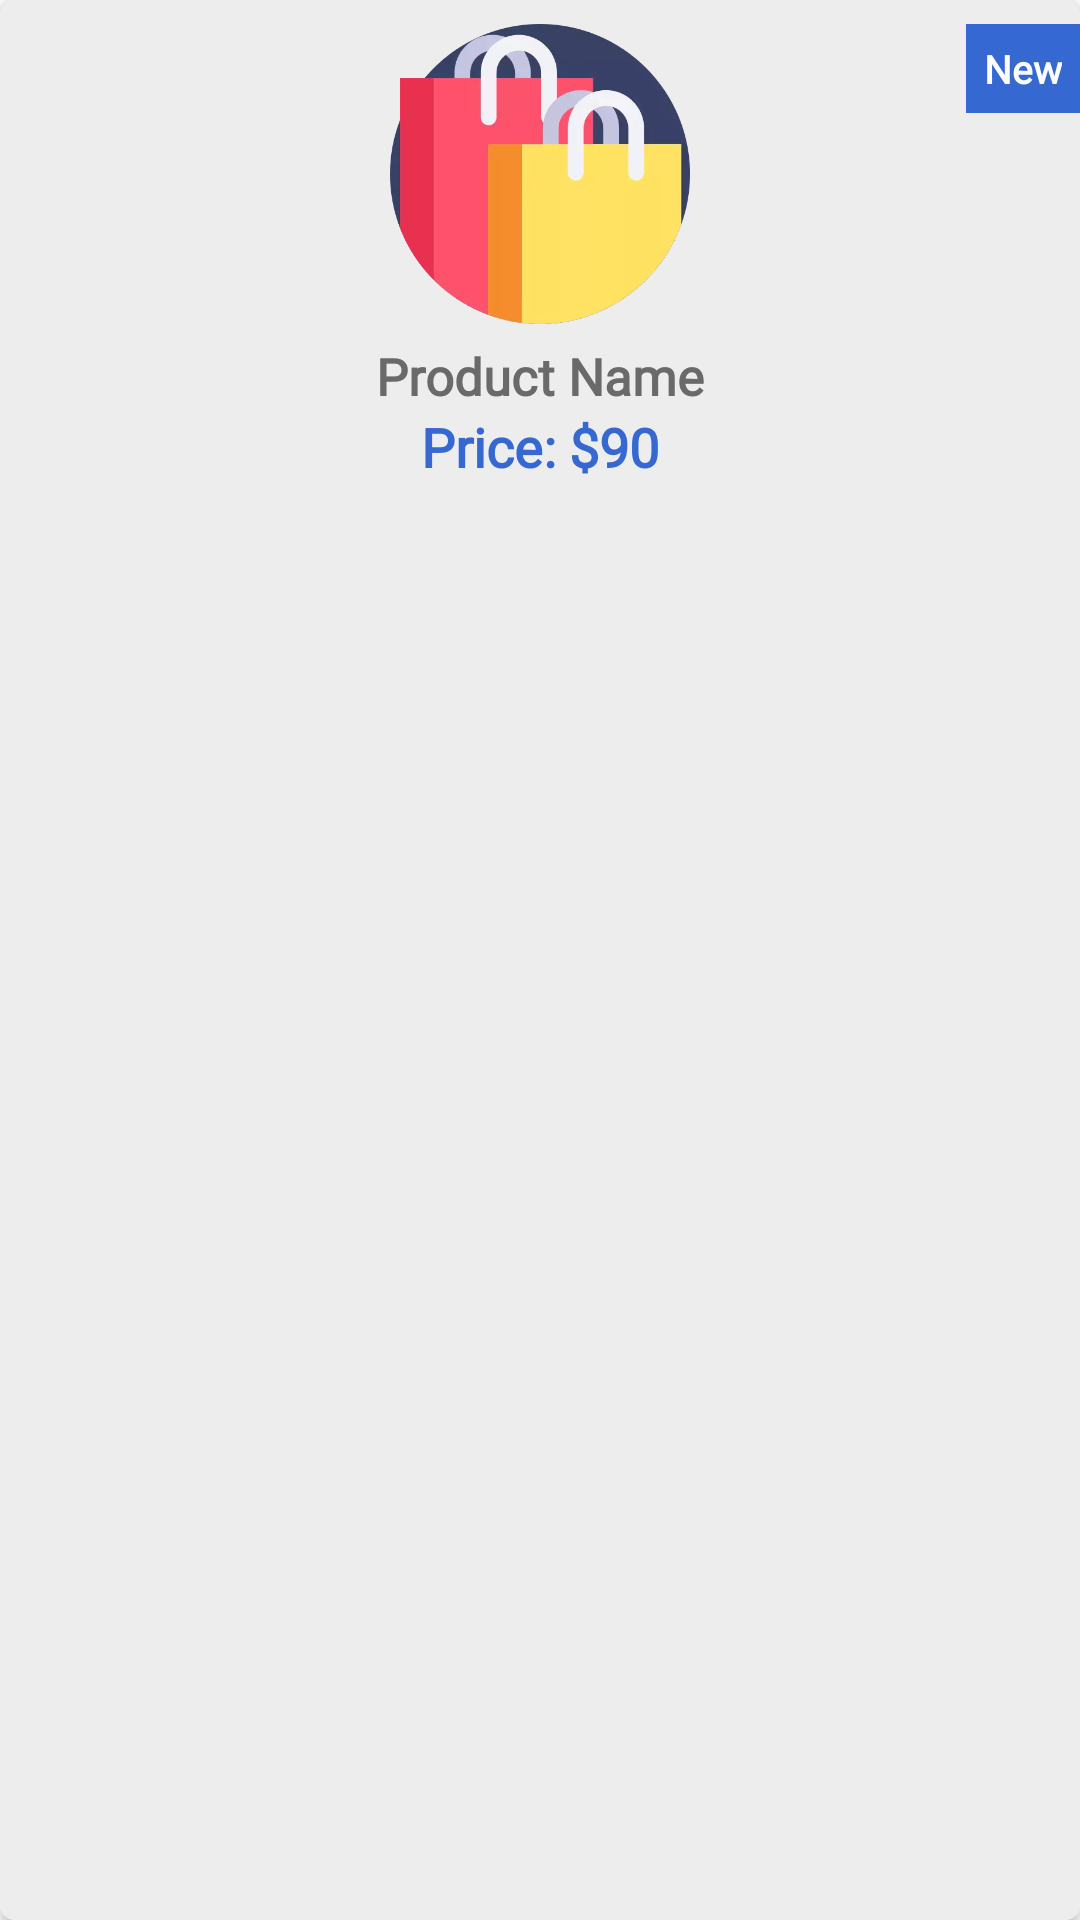

Icon bounding boxes for this 1080px×1920px phone screenshot, format bbox(x1, y1, x2, y2):
bag: bbox(390, 24, 690, 324)
